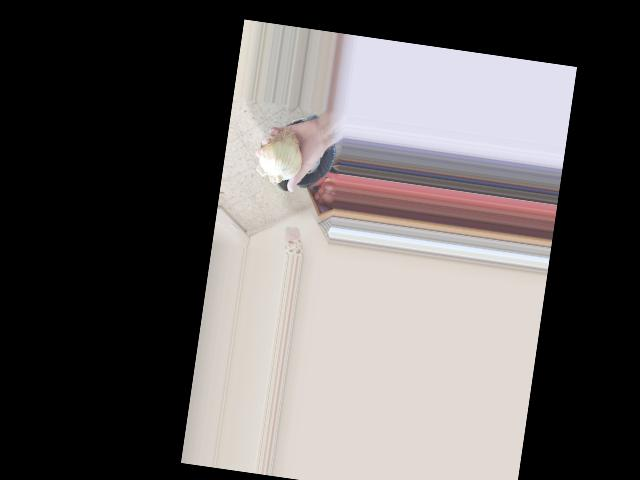onion: (258, 126, 307, 185)
